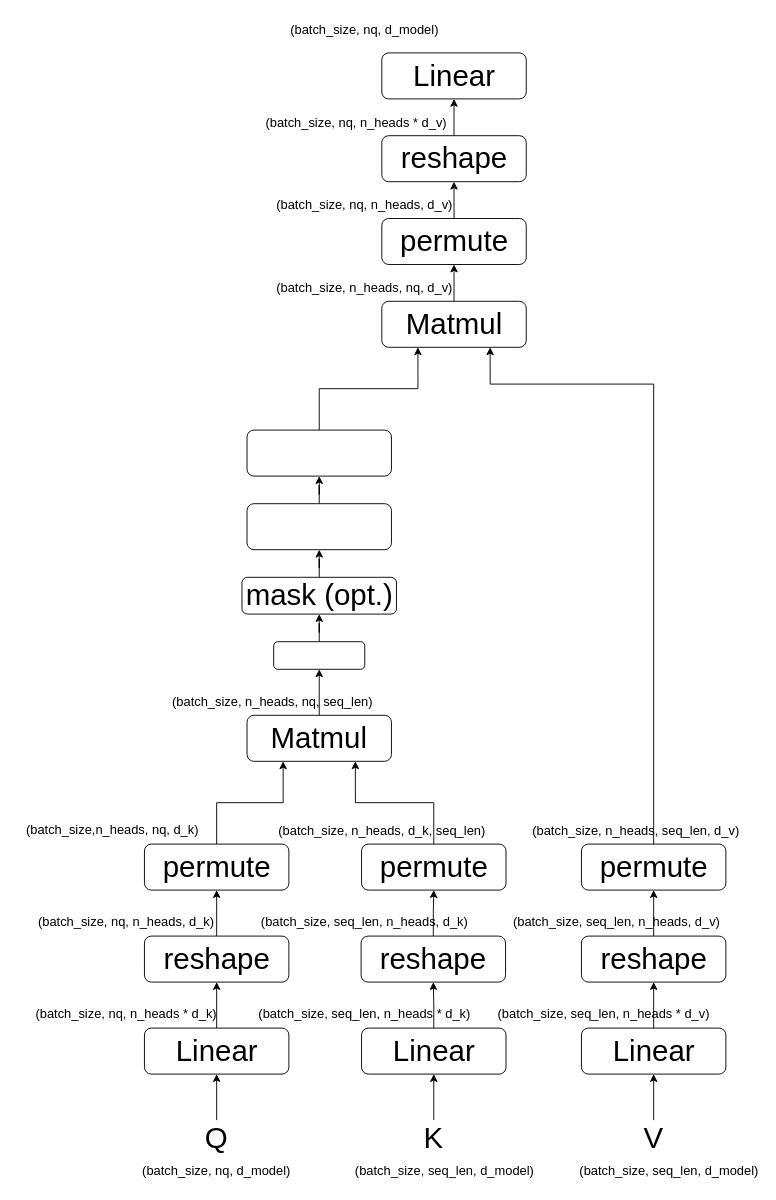
This 776x1200 diagram has some shape labels left out. The shapes that lost their labels are listed below. From the top down, each one's centre as x and y in pixels, then its label:
At pixel 318 452: "Dropout".
At pixel 318 526: "Softmax".
At pixel 319 655: "scale".
